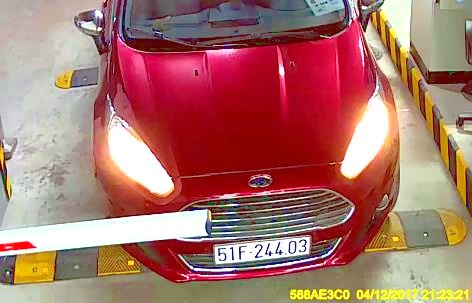plate: (213, 233, 311, 263)
